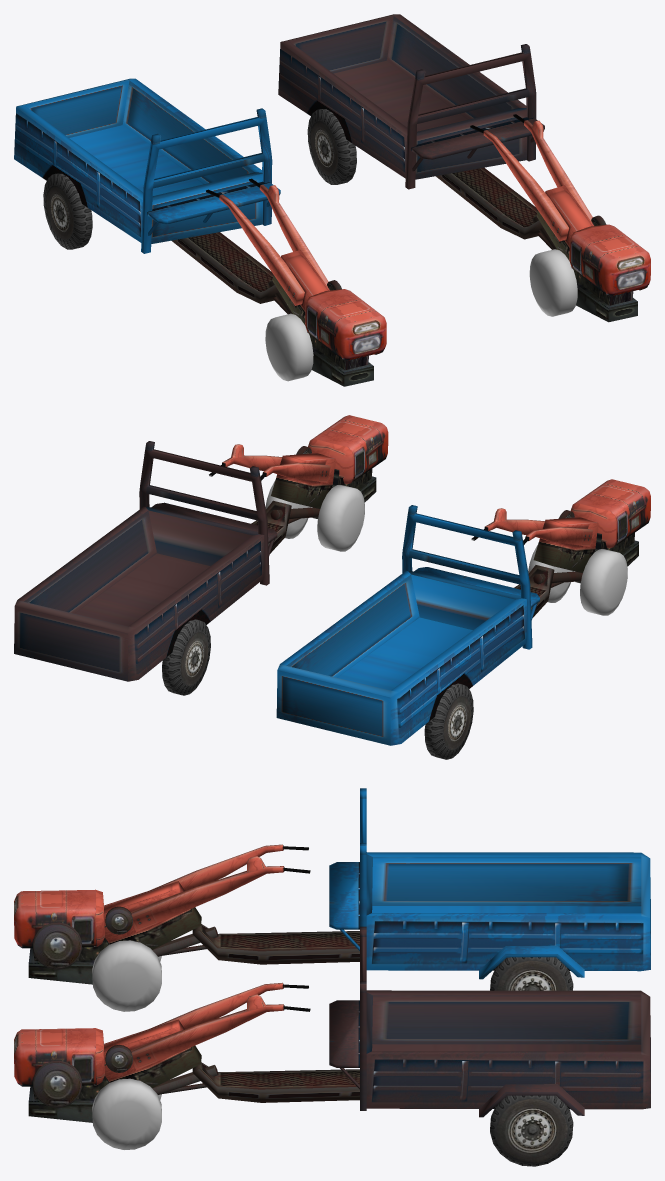
File: tiller.fbx
3 renders of one model, top to bottom at view 1: azimuth 30°, elevation 25°; view 2: azimuth 150°, elevation 25°; view 3: azimuth 270°, elevation 25°, orthographic. The views are drawn at different scales.
Parts seen in each view (by area): view 1: polySurface102, polySurface78; view 2: polySurface102, polySurface78; view 3: polySurface102, polySurface78.
Part boxes in pixels (left/top/right/bottom): polySurface102: left=278, top=14, right=650, bottom=322; polySurface78: left=14, top=78, right=386, bottom=386; polySurface102: left=14, top=415, right=388, bottom=695; polySurface78: left=276, top=479, right=650, bottom=759; polySurface102: left=14, top=926, right=650, bottom=1166; polySurface78: left=14, top=788, right=650, bottom=1011.
Size of the model in its own units: 20.84 by 8.12 by 26.28.
